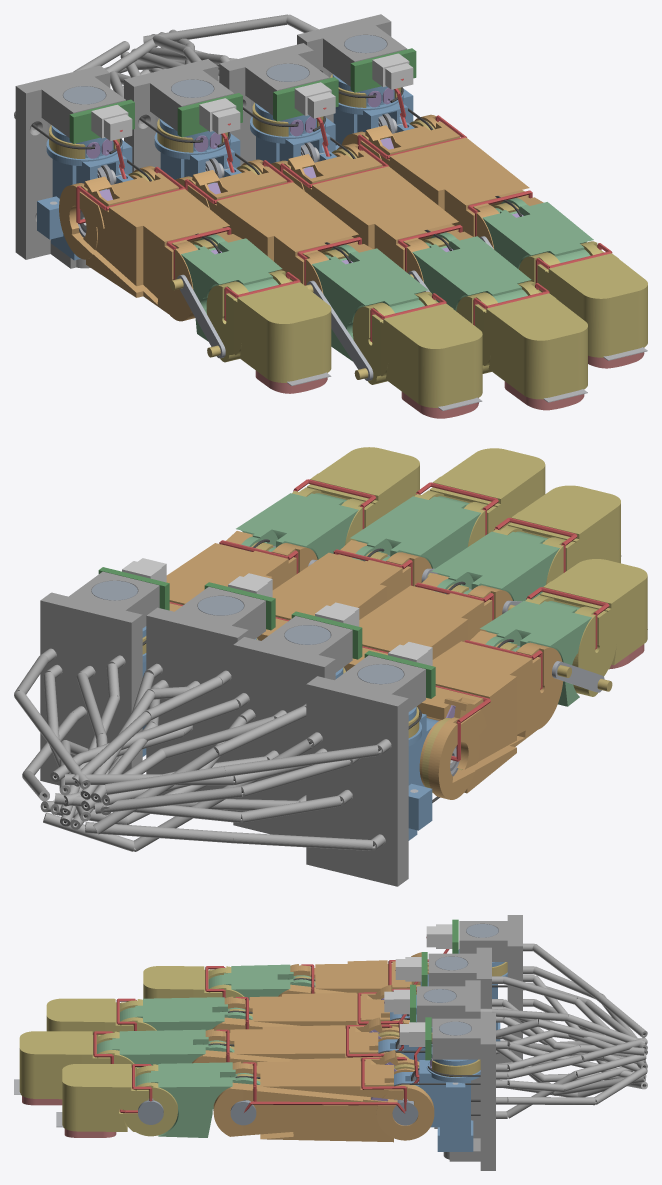
The model's file is fingers_q0.glb.
The picture shows the model from 3 angles, top to bottom: view 1: azimuth 30°, elevation 25°; view 2: azimuth 150°, elevation 25°; view 3: azimuth 270°, elevation 25°; orthographic projection. The views are drawn at different scales.
Visible parts, largest first — view 1: little_proximal, ring_distal, middle_proximal, middle_distal, little_distal, ring_proximal, index_proximal, little_knuckle_module, index_distal, ring_middle, middle_middle, ring_knuckle_module (+35 smaller); view 2: little_knuckle_module, little_proximal, index_knuckle_module, ring_knuckle_module, middle_knuckle_module, little_distal, ring_proximal, middle_proximal, ring_distal, middle_distal, middle_middle, index_distal (+40 smaller); view 3: index_proximal, index_distal, middle_proximal, ring_proximal, index_knuckle_module, middle_distal, index_middle, index_yoke, middle_middle, little_proximal, ring_middle, ring_distal (+42 smaller).
Part boxes in pixels (bbox=[...]): little_proximal: bbox=[59, 166, 241, 321]; ring_distal: bbox=[352, 291, 482, 407]; middle_proximal: bbox=[271, 143, 472, 282]; middle_distal: bbox=[456, 281, 587, 399]; little_distal: bbox=[206, 270, 331, 382]; ring_proximal: bbox=[175, 159, 372, 293]; index_proximal: bbox=[341, 114, 543, 249]; little_knuckle_module: bbox=[15, 65, 125, 268]; index_distal: bbox=[519, 241, 647, 357]; ring_middle: bbox=[312, 244, 428, 361]; middle_middle: bbox=[412, 232, 531, 310]; ring_knuckle_module: bbox=[124, 59, 234, 173]; little_knuckle_module: bbox=[306, 655, 425, 886]; little_proximal: bbox=[417, 630, 563, 799]; index_knuckle_module: bbox=[40, 571, 159, 785]; ring_knuckle_module: bbox=[233, 616, 352, 836]; middle_knuckle_module: bbox=[146, 587, 265, 811]; little_distal: bbox=[525, 559, 647, 696]; ring_proximal: bbox=[344, 573, 512, 670]; middle_proximal: bbox=[257, 540, 431, 640]; ring_distal: bbox=[493, 485, 620, 584]; middle_distal: bbox=[414, 448, 545, 546]; middle_middle: bbox=[350, 496, 480, 568]; index_distal: bbox=[292, 447, 419, 545]; index_proximal: bbox=[213, 1050, 434, 1142]; index_distal: bbox=[62, 1064, 177, 1136]; middle_proximal: bbox=[192, 1017, 408, 1065]; ring_proximal: bbox=[212, 985, 409, 1032]; index_knuckle_module: bbox=[432, 1013, 495, 1170]; middle_distal: bbox=[19, 1031, 136, 1099]; index_middle: bbox=[135, 1062, 260, 1137]; index_yoke: bbox=[394, 1047, 480, 1151]; middle_middle: bbox=[97, 1029, 234, 1067]; little_proximal: bbox=[278, 952, 428, 996]; ring_middle: bbox=[120, 997, 252, 1030]; ring_distal: bbox=[46, 998, 156, 1035].
Size of the model in its own units: 79.4 by 36.65 by 164.
